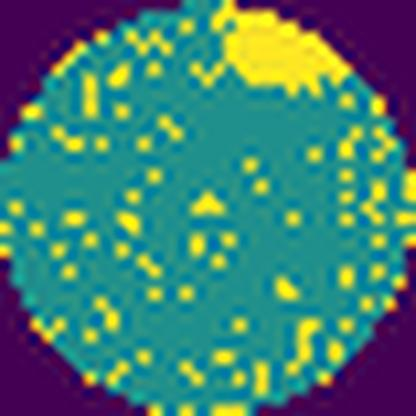Edge-Loc: (211, 1, 352, 99)
